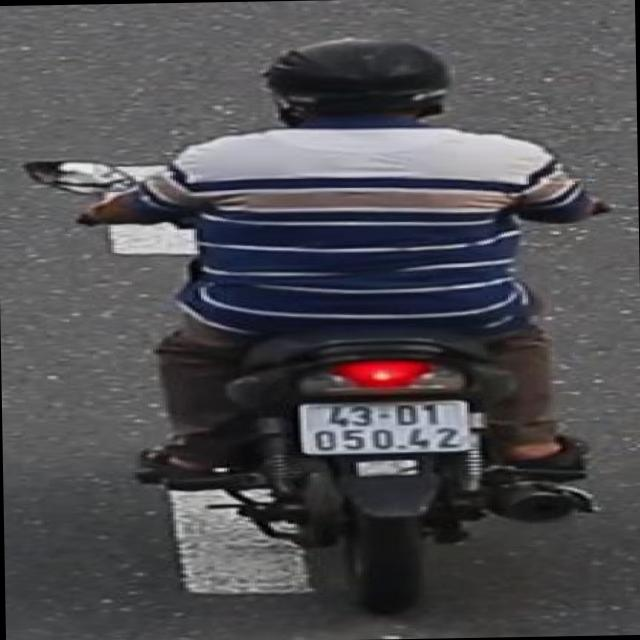LP: (290, 392, 478, 460)
helmet: (256, 30, 459, 134)
